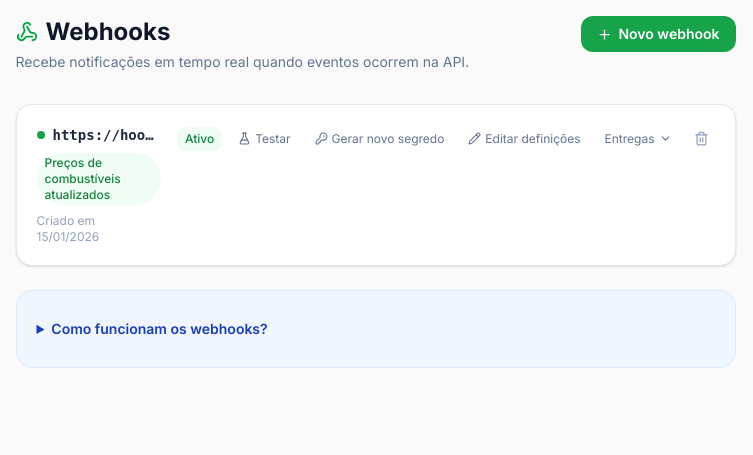
Test case: Webhooks page › does not rotate when the confirmation is cancelled
Click the button "Gerar novo segredo". click: (380, 138)
box: [307, 126, 452, 150]
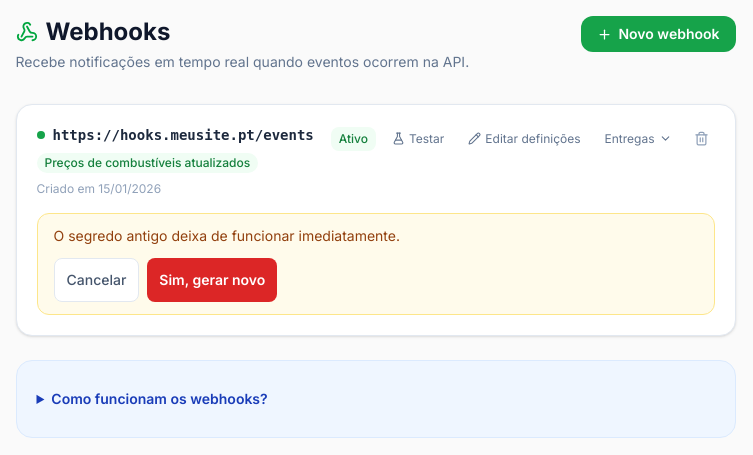
Click the button "Cancelar". click: (96, 280)
box: [54, 258, 139, 302]
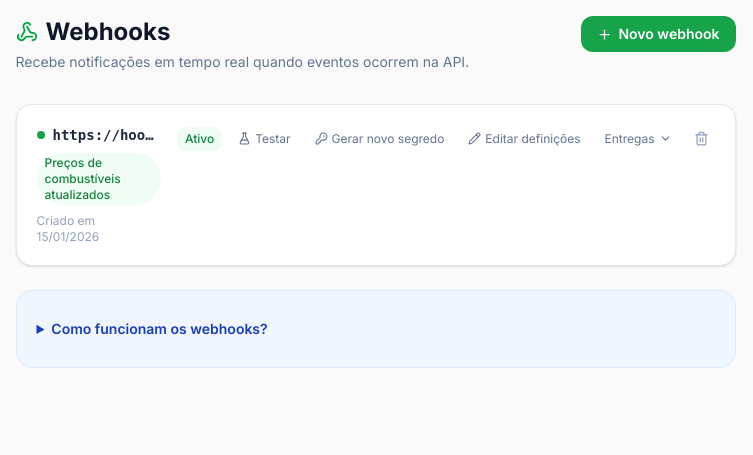
expect the button "Gerar novo segredo" is shown: met, box [307, 126, 452, 150]
